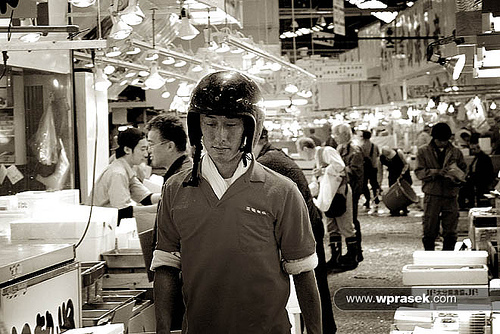helmet: (191, 73, 271, 132)
